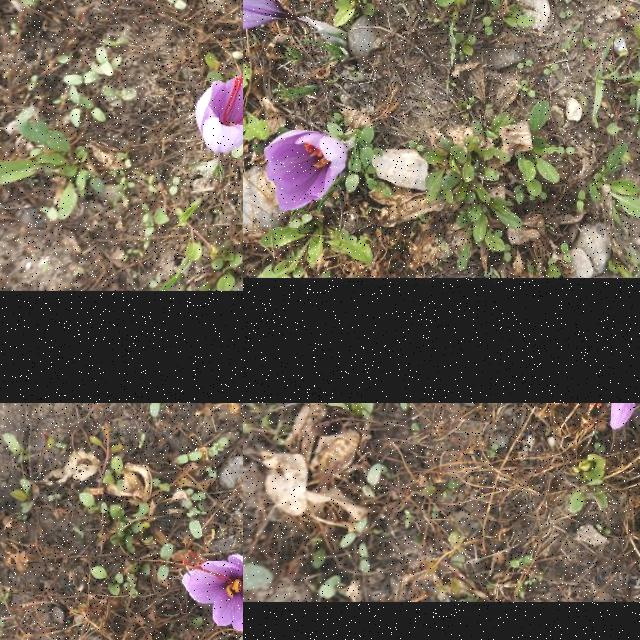flower: (264, 130, 348, 214), (180, 549, 243, 633), (195, 61, 243, 154)
